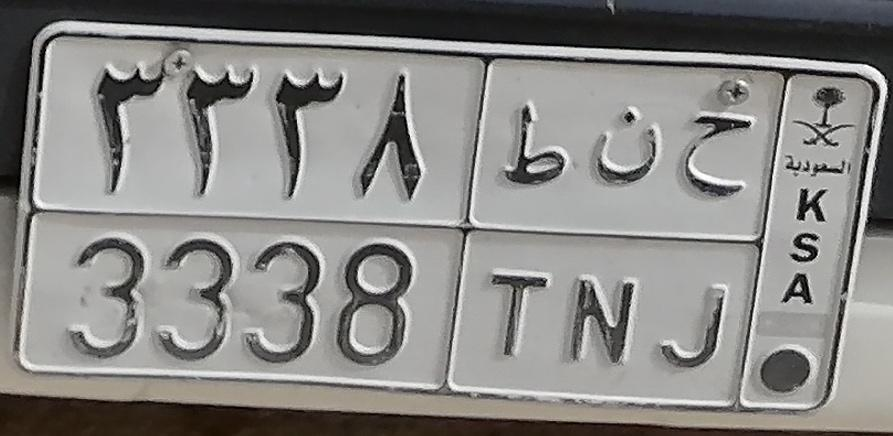3: (66, 58, 168, 364), (248, 70, 347, 367), (158, 67, 256, 362)
8: (337, 69, 435, 374)
J: (659, 111, 759, 377)
N: (568, 105, 667, 367)
T: (486, 99, 570, 370)
